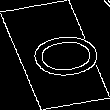O_E: (8, 28, 102, 82)
